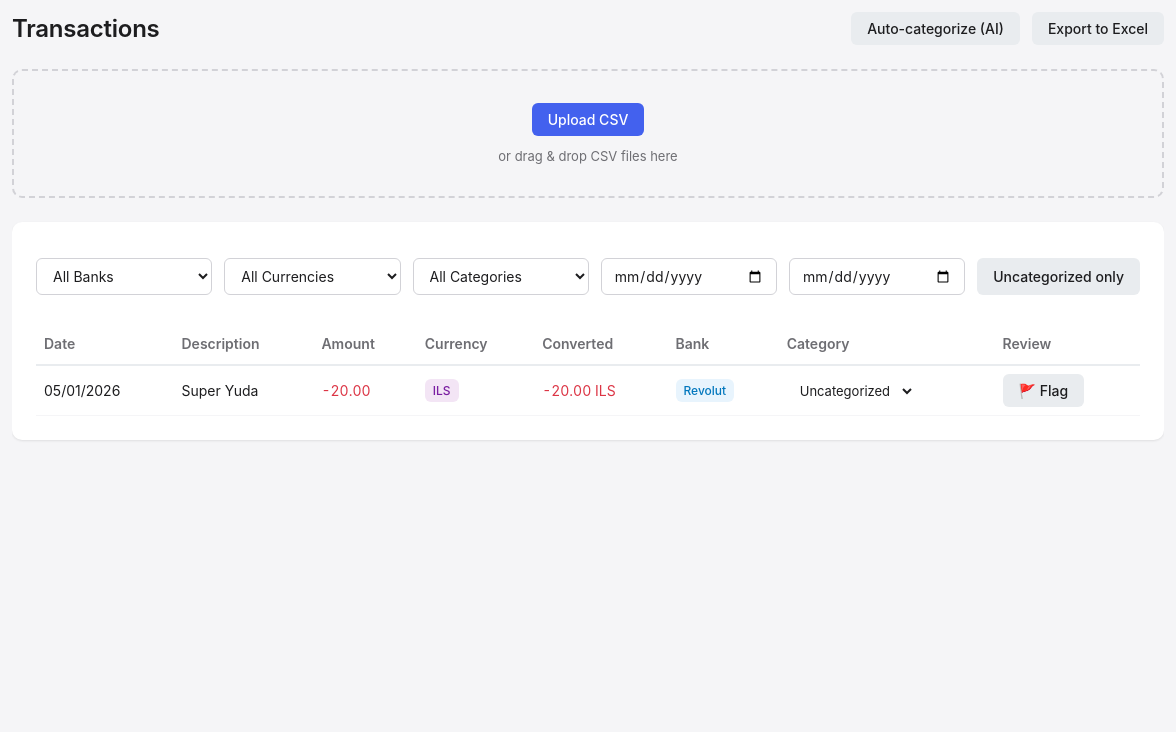
Test: TransactionsPage › saves a correction with a category and reloads
Step 1. Click the button "🚩 Flag" → click(1043, 390), box [1003,374,1084,407]
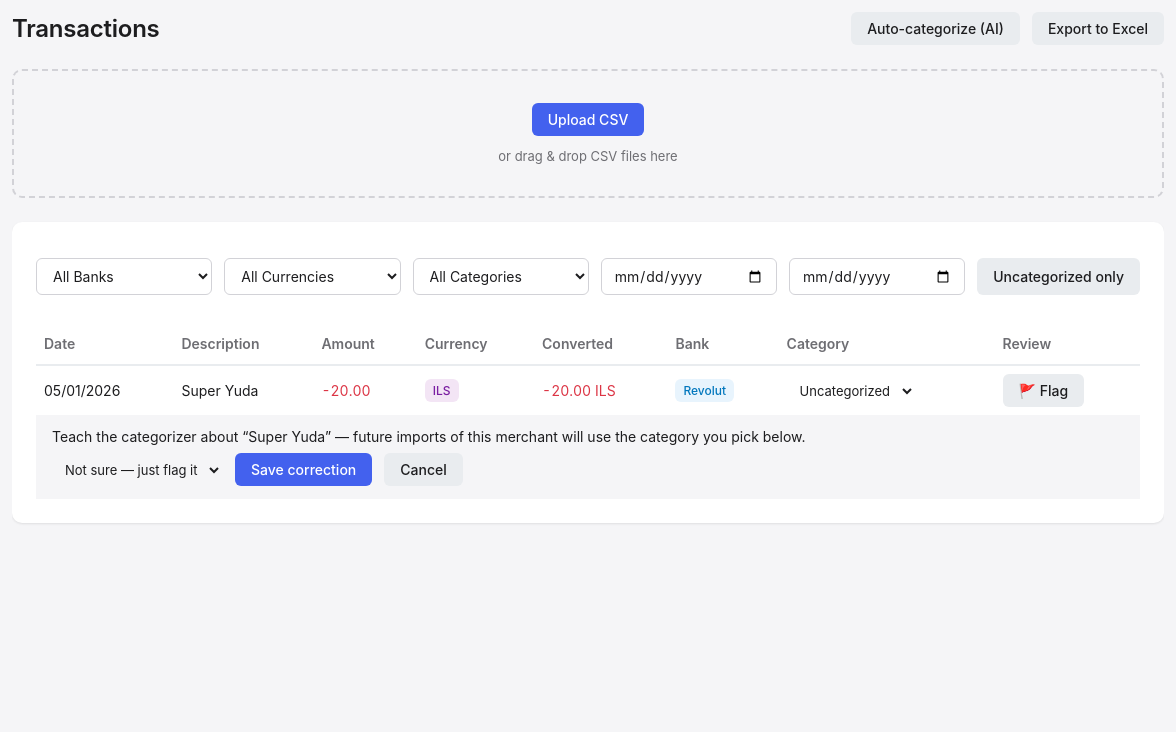
Step 2. Select "Groceries" in the dropdown showing "Not sure — just flag it" below "Teach the categorizer about “" → (138, 470), box [52,456,223,484]
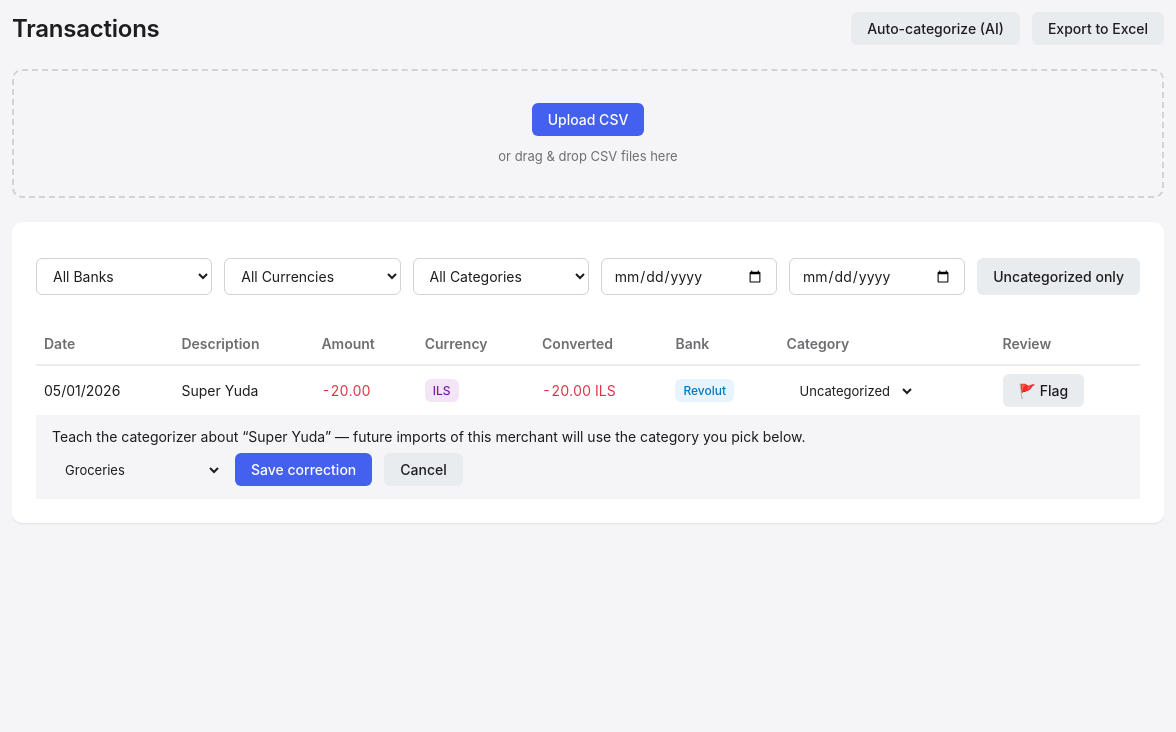
Step 3. Click the button "Save correction" → click(304, 470), box [235,453,372,486]
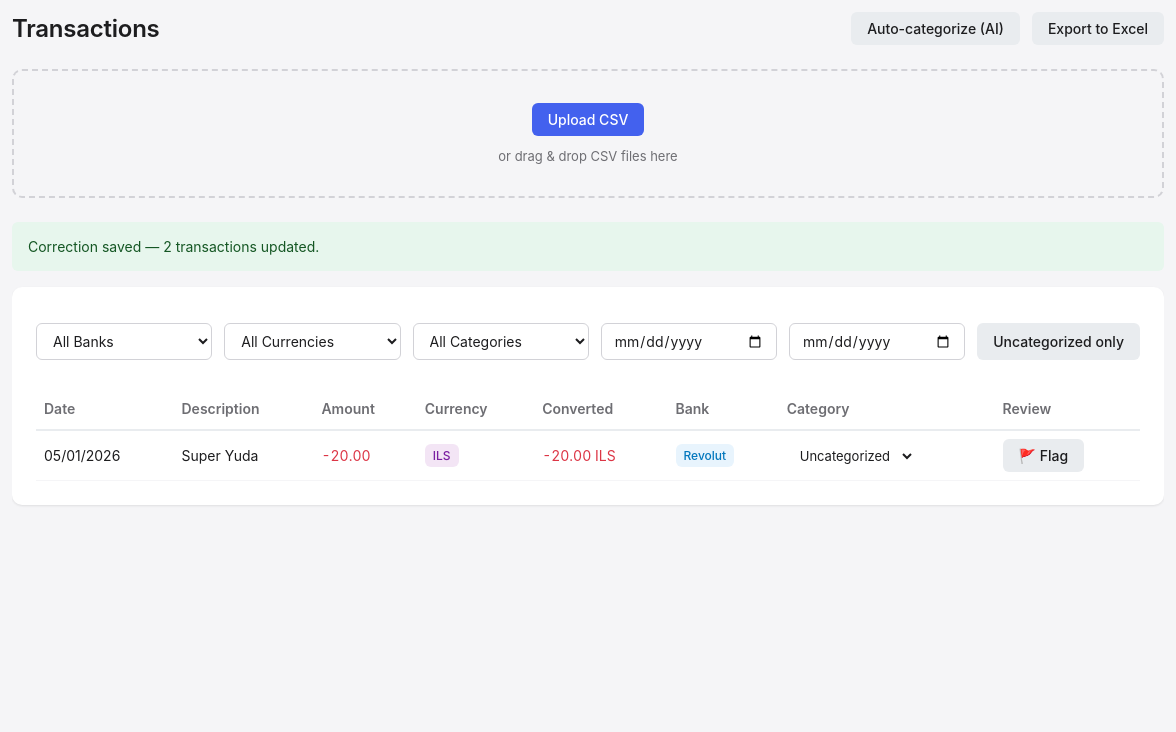
Expected: the text "Correction saved — 2 transactions updated." is shown, [28,238,319,255]
